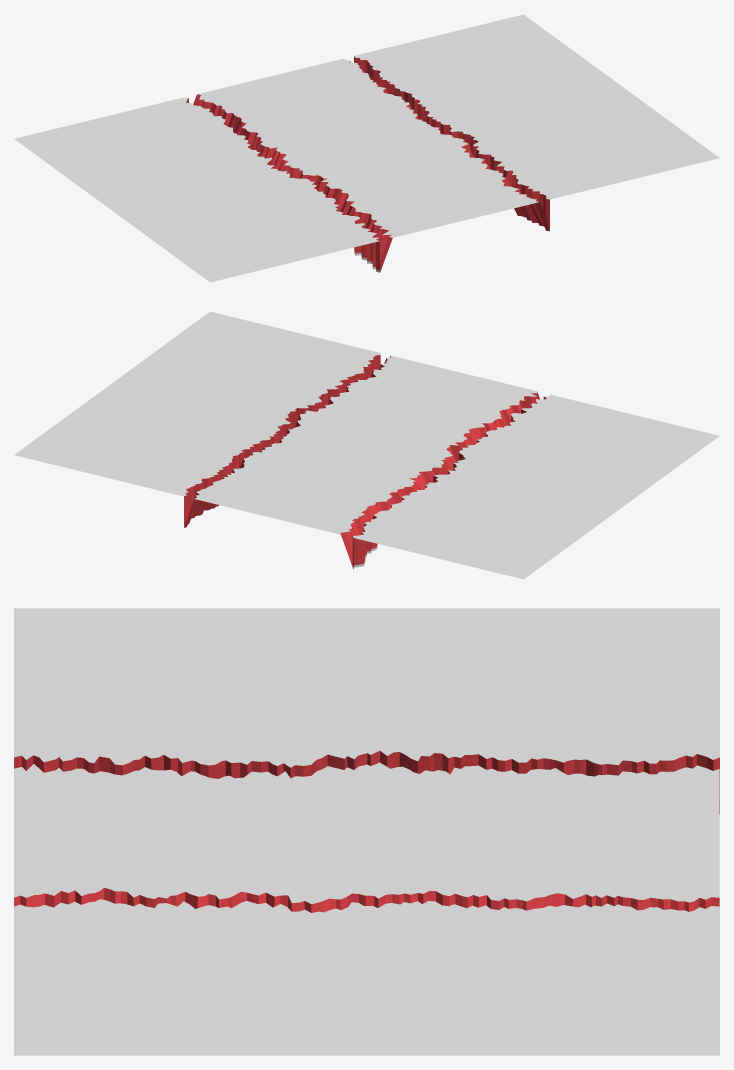
Rendered from icpupt3.fbx.
3 views of the same model, one above another, from view 1: azimuth 30°, elevation 25°; view 2: azimuth 150°, elevation 25°; view 3: azimuth 270°, elevation 25° (orthographic). The views are drawn at different scales.
Visible parts, largest first — view 1: L, R, Base; view 2: L, R, Base; view 3: R, L, Base.
Part boxes in pixels (box(x1,y1,x2,y2)): L: box(354, 14, 719, 230); R: box(14, 97, 379, 282); Base: box(193, 58, 549, 272); L: box(14, 311, 380, 527); R: box(352, 394, 719, 579); Base: box(184, 355, 539, 568); R: box(14, 608, 719, 797); L: box(14, 899, 719, 1055); Base: box(14, 762, 719, 912).
Bounding box in the file's own units: 8400 × 500 × 5600.
